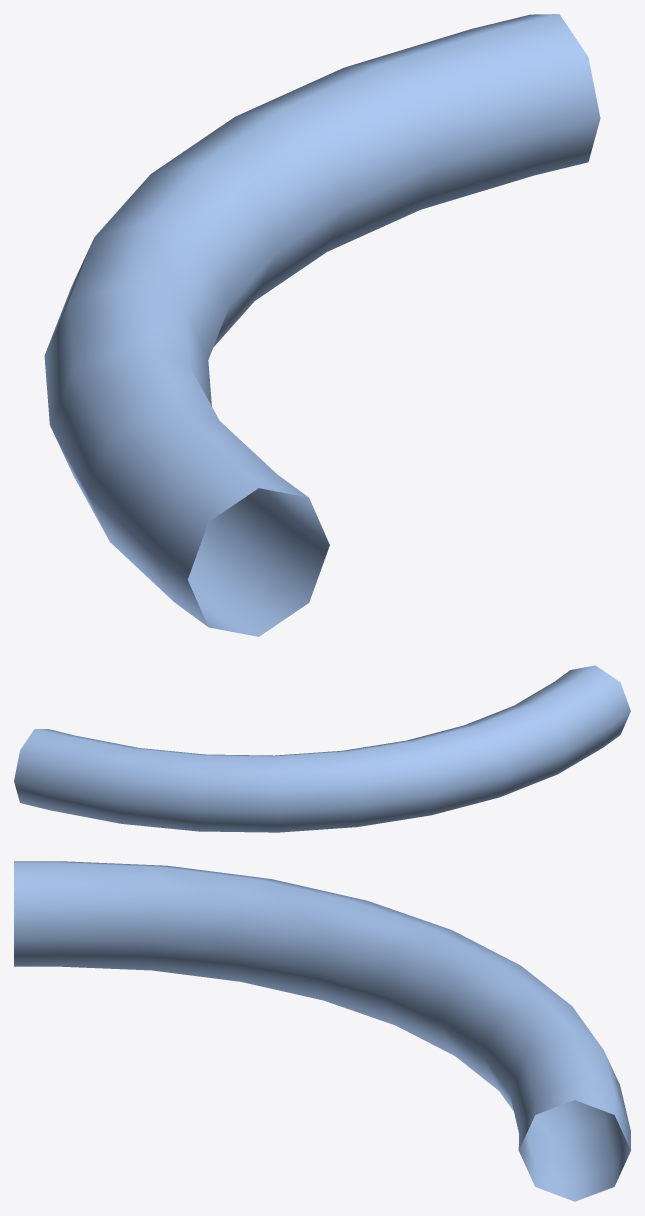
The model's file is PipeSmall_Bent_05.fbx.
The picture shows the model from 3 angles, top to bottom: view 1: azimuth 30°, elevation 25°; view 2: azimuth 150°, elevation 25°; view 3: azimuth 270°, elevation 25°; orthographic projection. The views are drawn at different scales.
Visible parts, largest first — view 1: PipeSmall_Bent_05.001; view 2: PipeSmall_Bent_05.001; view 3: PipeSmall_Bent_05.001.
Part boxes in pixels (bbox=[...]): PipeSmall_Bent_05.001: bbox=[44, 14, 600, 636]; PipeSmall_Bent_05.001: bbox=[14, 665, 630, 832]; PipeSmall_Bent_05.001: bbox=[14, 861, 630, 1201].
Bounding box in the file's own units: 0.55 × 0.1 × 0.55.
